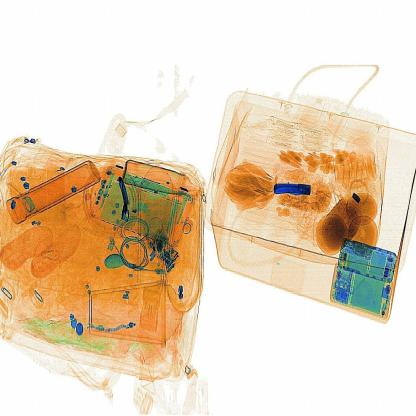knife: (267, 172, 321, 198)
